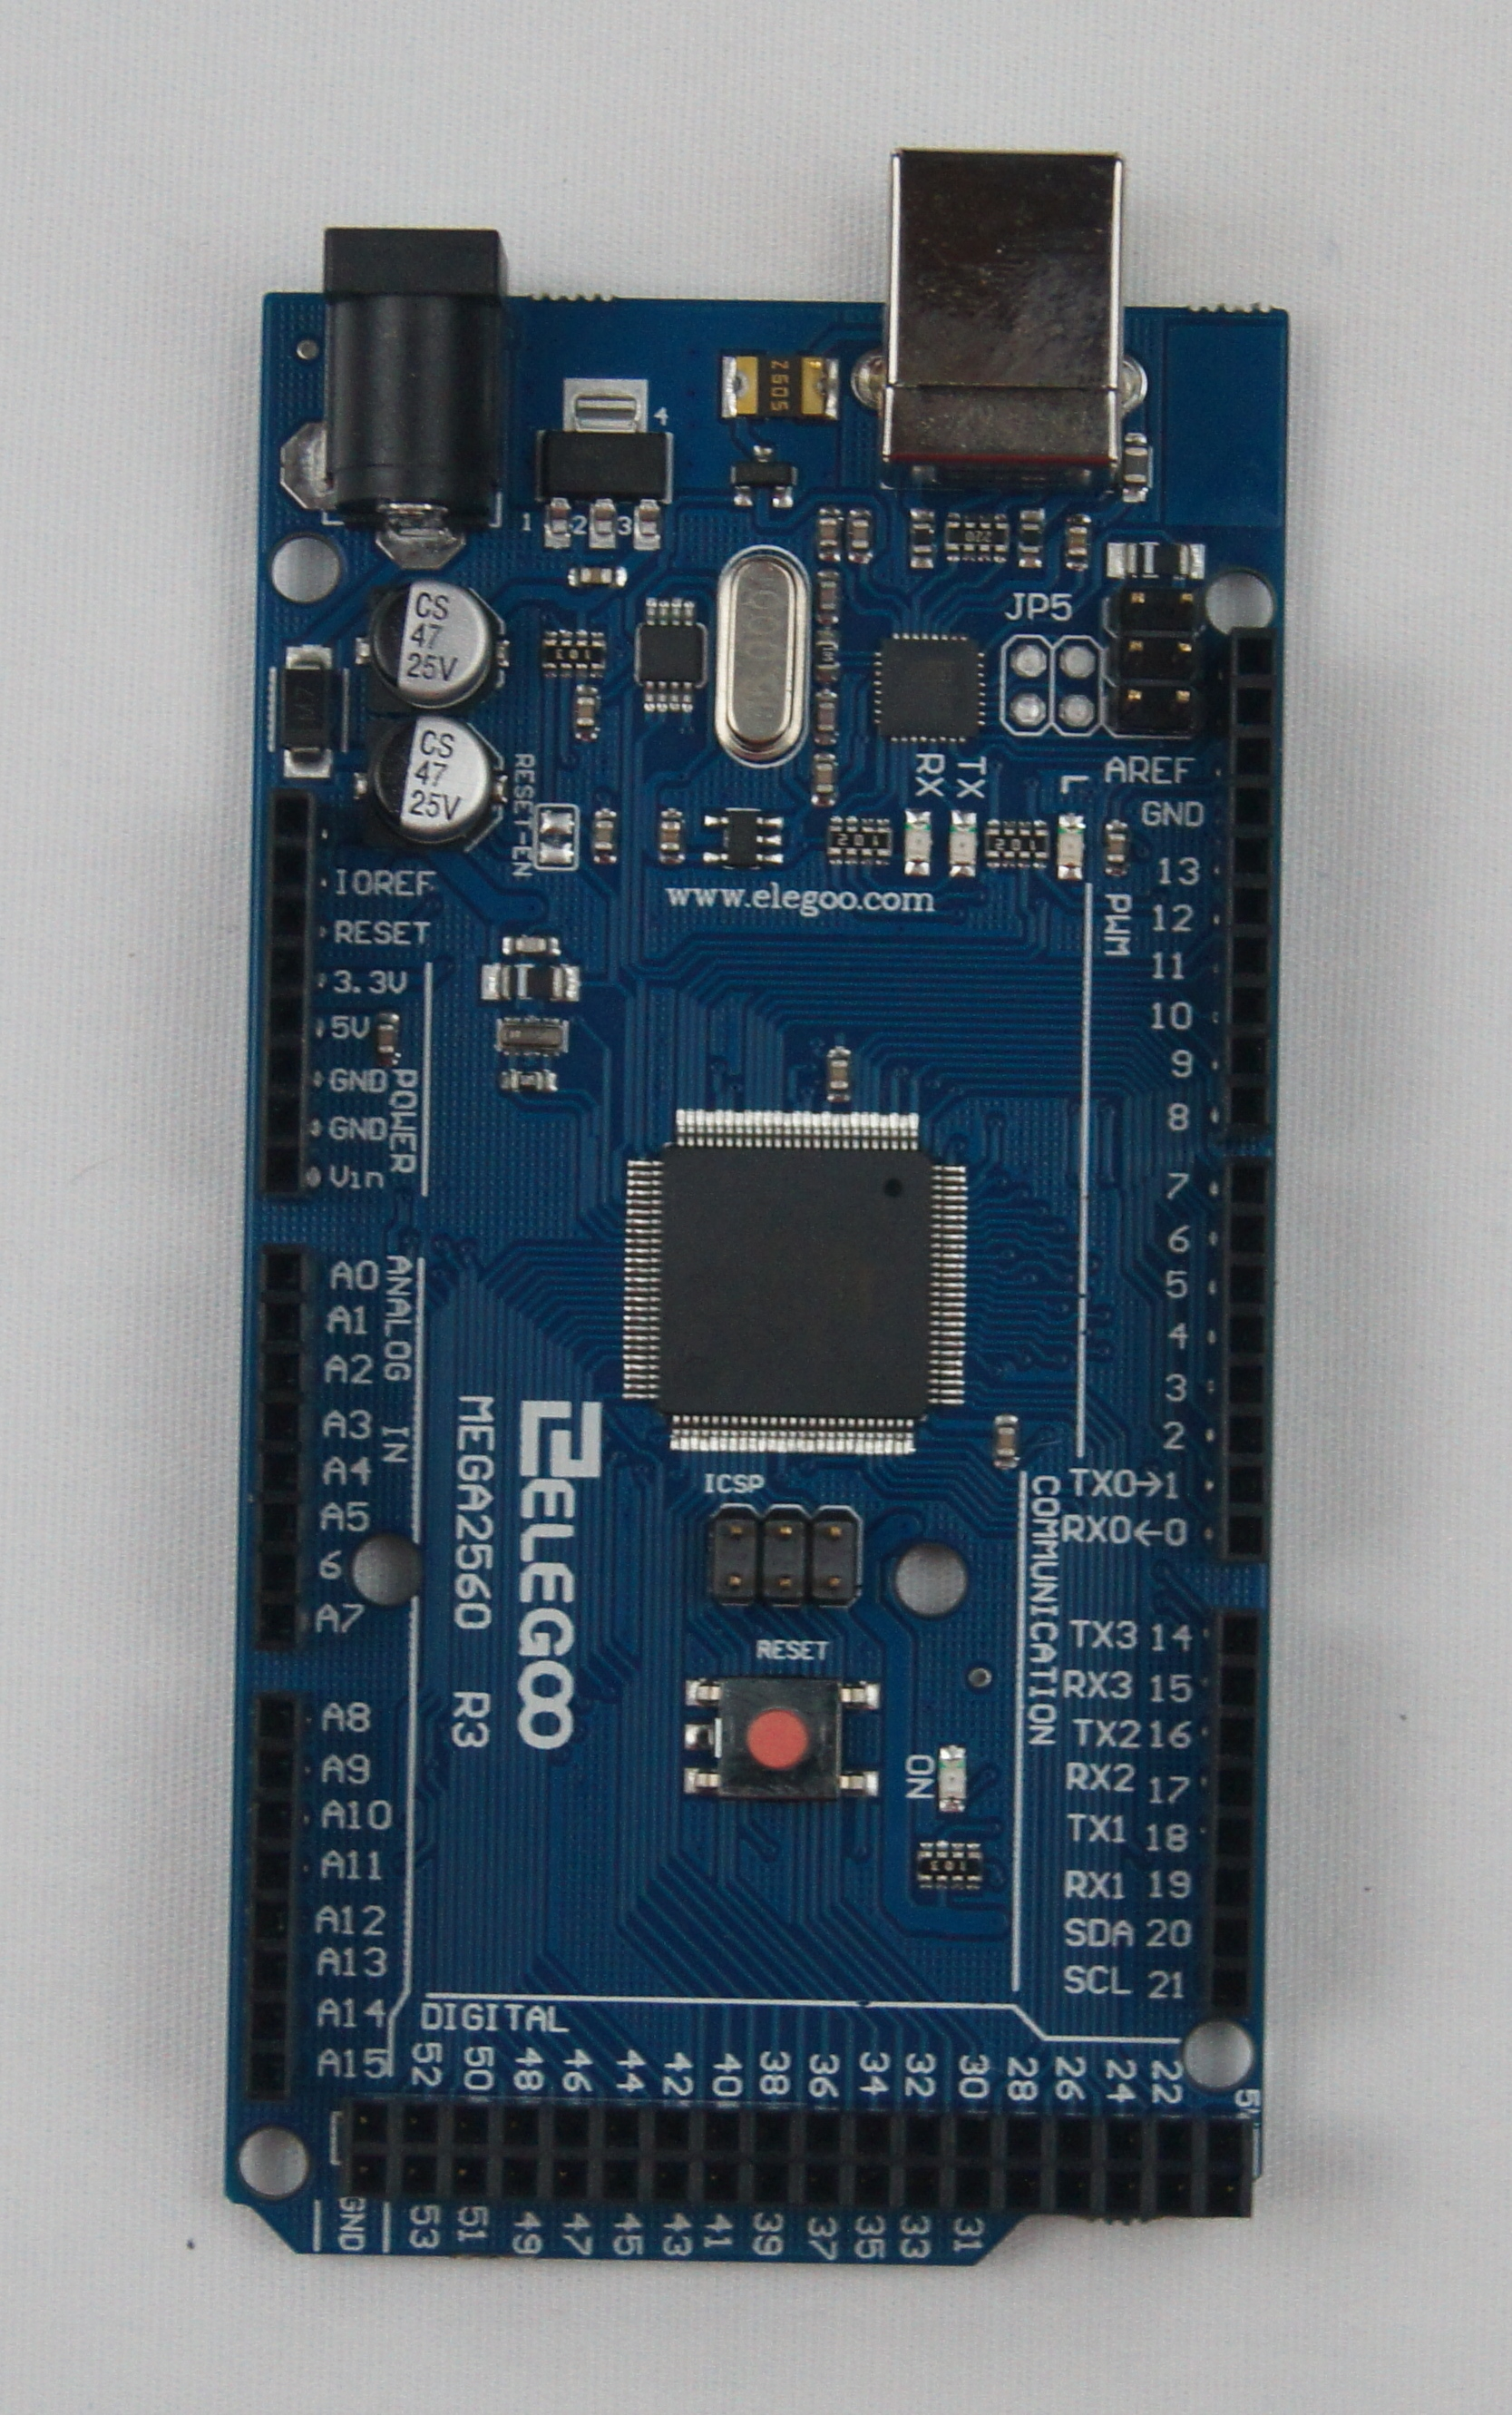connector: (340, 2094, 1256, 2222), (1219, 629, 1280, 1138), (239, 1685, 300, 2103), (1218, 1153, 1279, 1566), (253, 1239, 312, 1657), (1207, 1607, 1263, 2023), (261, 789, 314, 1197), (704, 1505, 862, 1610), (1110, 585, 1205, 739), (1052, 631, 1103, 737), (1002, 634, 1054, 735)
